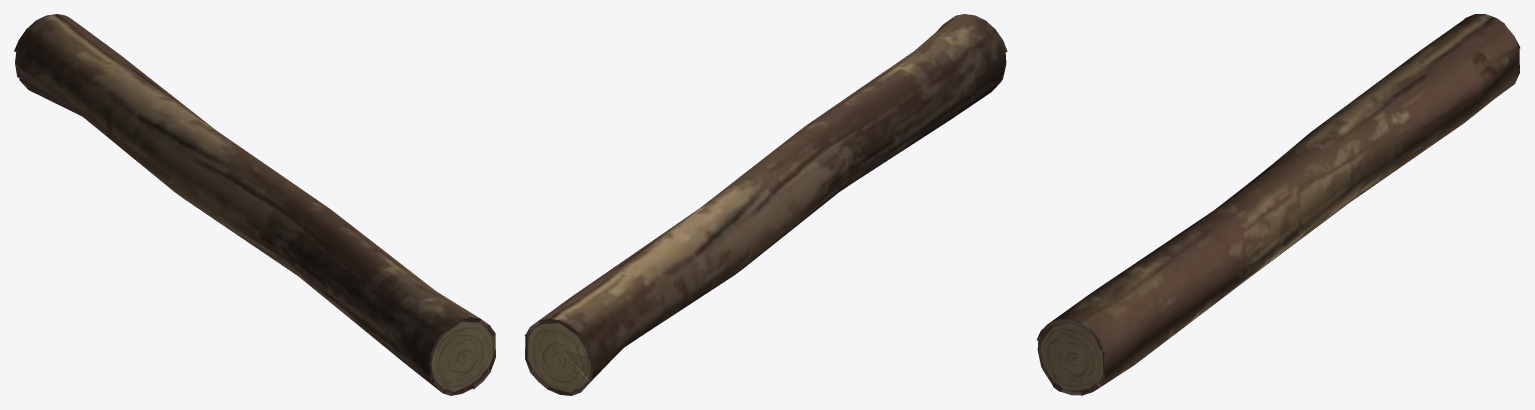
3 views of the same model, side by side, from view 1: azimuth 30°, elevation 25°; view 2: azimuth 150°, elevation 25°; view 3: azimuth 330°, elevation 25° (orthographic).
Visible parts, largest first — view 1: body0_model0_lod0_mesh0; view 2: body0_model0_lod0_mesh0; view 3: body0_model0_lod0_mesh0.
Part boxes in pixels (x1,y1,x2,y2): body0_model0_lod0_mesh0: (14, 14, 495, 395); body0_model0_lod0_mesh0: (524, 14, 1007, 395); body0_model0_lod0_mesh0: (1036, 14, 1520, 395).
Size of the model in its own units: 40.06 by 39.64 by 383.
1 material, 1 textured.
